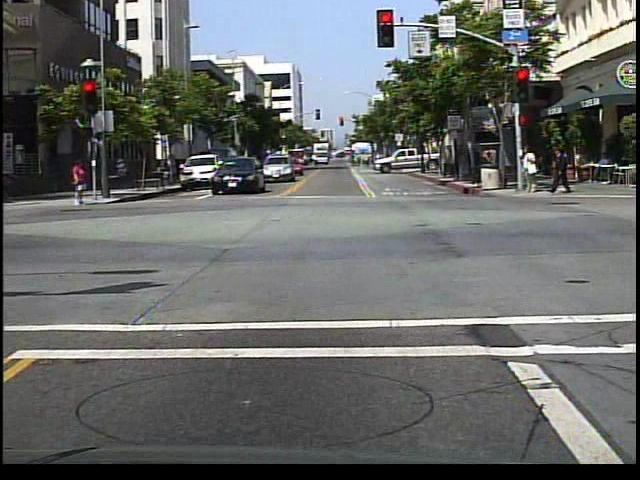person: (549, 147, 575, 197), (71, 158, 92, 211), (520, 144, 541, 196)
